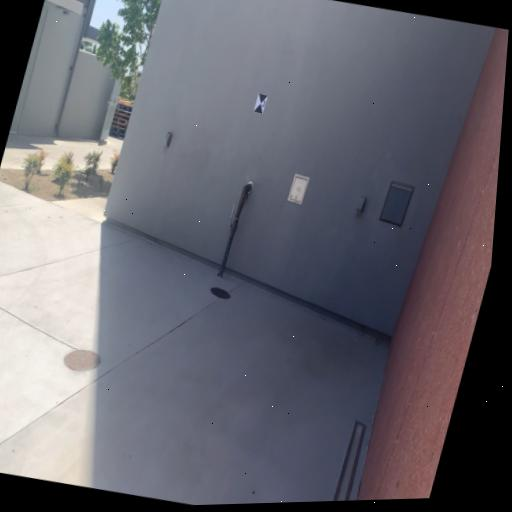target3: (253, 92, 269, 115)
